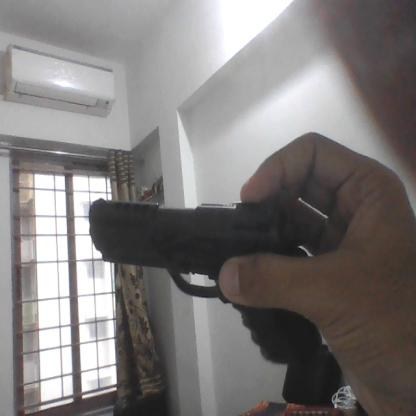handgun: (88, 195, 324, 367)
